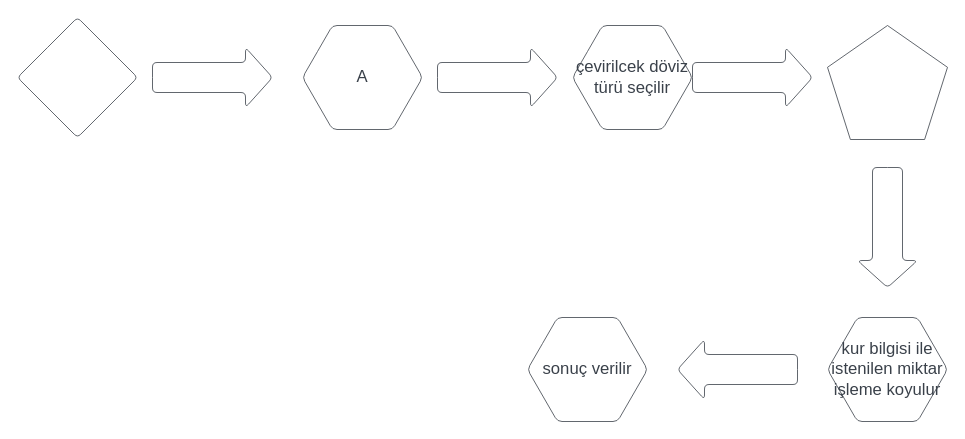
The diagram is 965 pixels wide and 439 high, and some of its shapes have lost their labels. The centre of each missing label's shape, as x and y in pixels:
"API den kur bilgisi çekilir" belongs at point (887, 82).
"Kullanıcı" belongs at point (77, 77).
